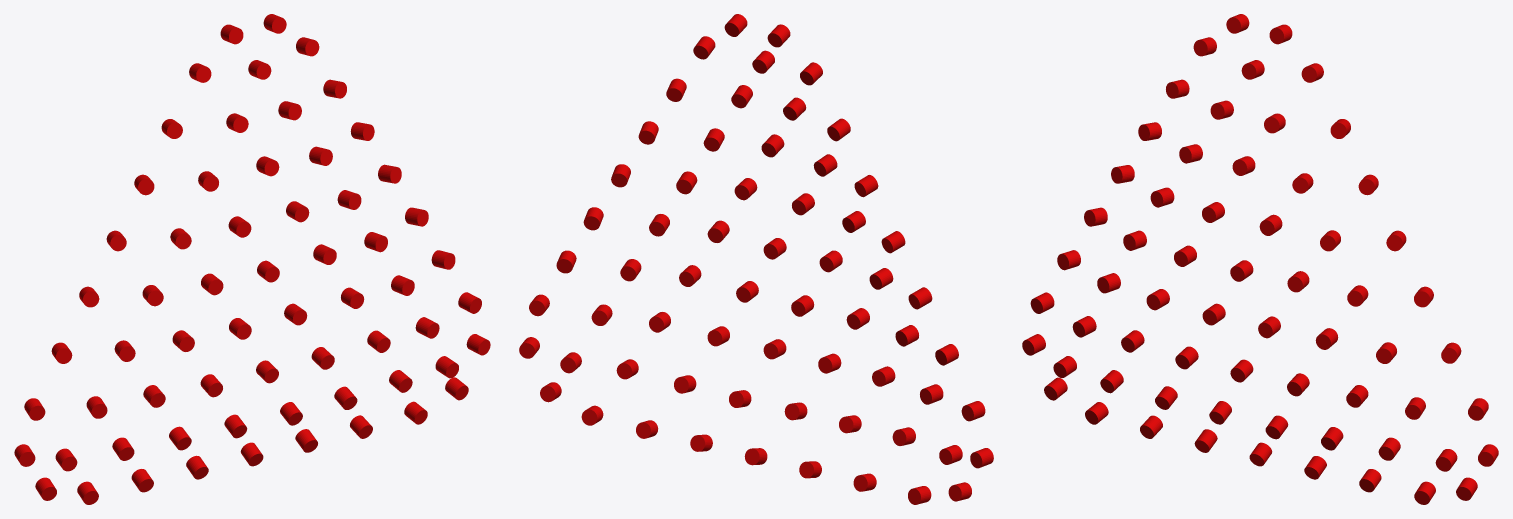
3 views of the same model, side by side, from view 1: azimuth 30°, elevation 25°; view 2: azimuth 150°, elevation 25°; view 3: azimuth 330°, elevation 25° (orthographic).
Size of the model in its own units: 0.0324 by 0.0292 by 0.00334.
